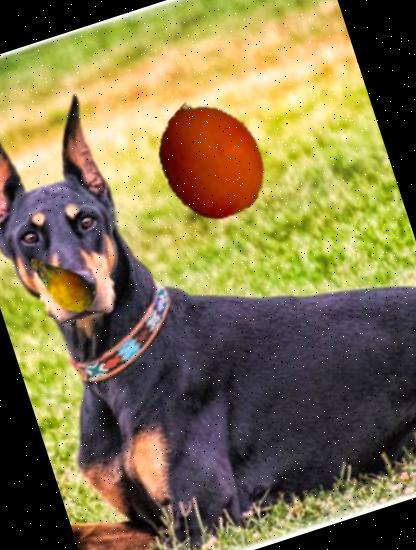Apricot: (136, 87, 286, 237)
Cactus: (13, 234, 109, 330)
